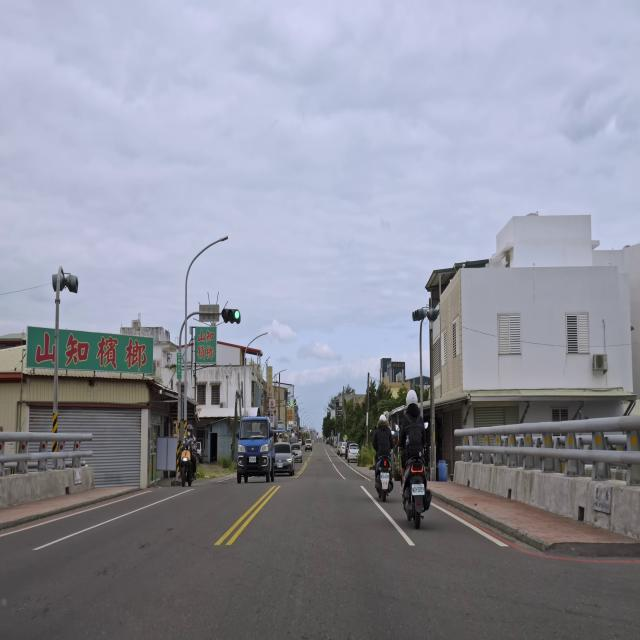green light: (221, 308, 241, 324)
